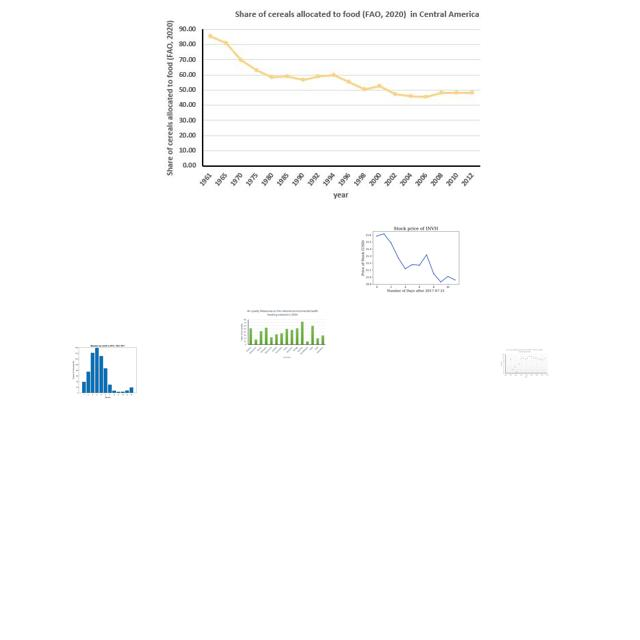Graph: (159, 4, 483, 207), (359, 216, 470, 299), (239, 308, 327, 360), (71, 344, 138, 399), (499, 348, 549, 378)
